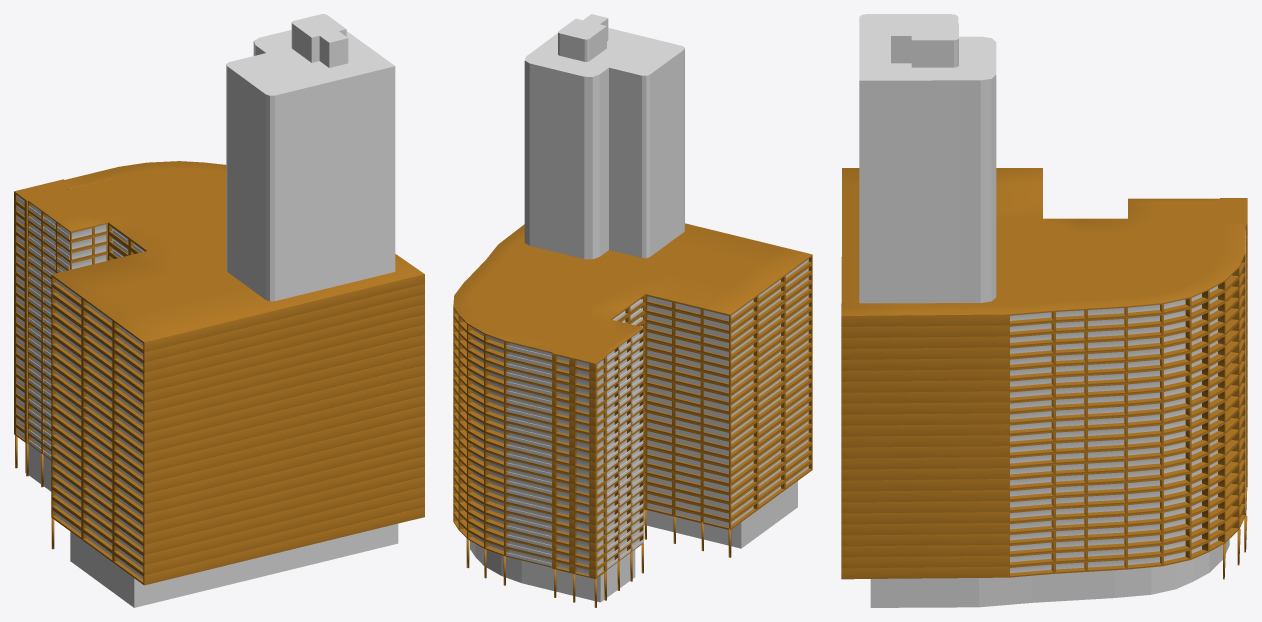
The model's file is Medical_re_05.fbx.
3 views of the same model, side by side, from view 1: azimuth 30°, elevation 25°; view 2: azimuth 150°, elevation 25°; view 3: azimuth 270°, elevation 25° (orthographic). The views are drawn at different scales.
Visible parts, largest first — view 1: Last.006, Middle, Last.002, Last.001, Circle.002, Last_Top; view 2: Last.006, Middle, Last.002, Last.001, Circle.001, Circle.002, Last_Top; view 3: Last.006, Middle, Last.002, Last.001, Last_Top.
Part boxes in pixels (x1,y1,x2,y2): Last.006: (14, 161, 424, 585); Middle: (226, 30, 395, 301); Last.002: (50, 169, 247, 311); Last.001: (25, 443, 398, 607); Circle.002: (28, 206, 69, 458); Last_Top: (291, 14, 348, 67); Last.006: (453, 223, 812, 579); Middle: (524, 28, 684, 259); Last.002: (470, 238, 756, 350); Last.001: (470, 481, 797, 602); Circle.001: (506, 345, 551, 566); Circle.002: (607, 332, 643, 568); Last_Top: (558, 14, 608, 61); Last.006: (841, 168, 1247, 579); Middle: (859, 14, 996, 303); Last.002: (909, 211, 1222, 306); Last.001: (870, 539, 1229, 607); Last_Top: (891, 22, 958, 67).
Size of the model in its own units: 5289 by 9161 by 6125.
